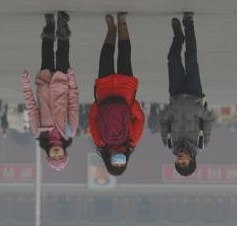person: (22, 11, 82, 171), (90, 10, 145, 175), (160, 10, 212, 175), (89, 153, 112, 186), (145, 101, 162, 134), (77, 101, 92, 137), (15, 102, 31, 131), (1, 99, 11, 140)
